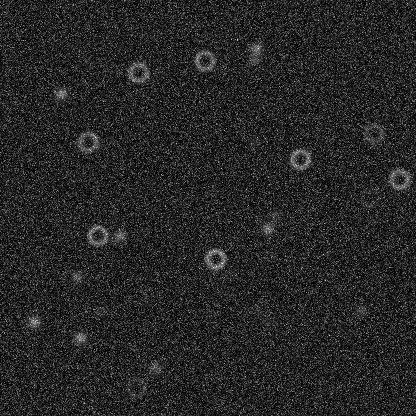Ring: (361, 121, 385, 145), (357, 185, 381, 209), (75, 129, 99, 153), (126, 60, 150, 84), (203, 246, 227, 270), (387, 167, 411, 191), (85, 223, 109, 247), (288, 147, 312, 171), (124, 375, 148, 399), (192, 48, 216, 72)
Spot: (221, 265, 237, 281), (246, 133, 262, 149), (91, 302, 107, 318), (111, 227, 127, 243), (266, 207, 282, 223), (352, 302, 368, 318), (260, 313, 276, 329), (248, 40, 264, 56), (147, 359, 163, 375), (245, 51, 261, 67), (26, 313, 42, 329), (259, 220, 275, 236), (68, 267, 84, 283), (72, 329, 88, 345), (52, 85, 68, 101), (251, 299, 267, 315)
